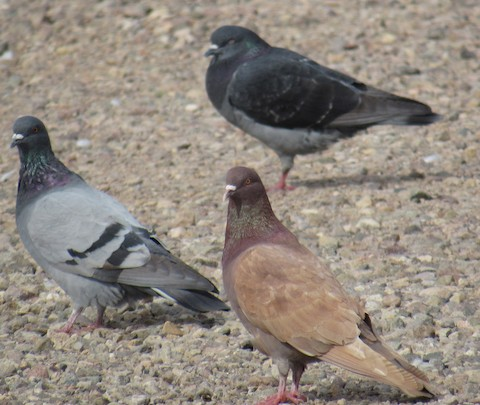pigeon: (210, 164, 459, 405), (6, 112, 237, 330), (200, 20, 444, 197)
